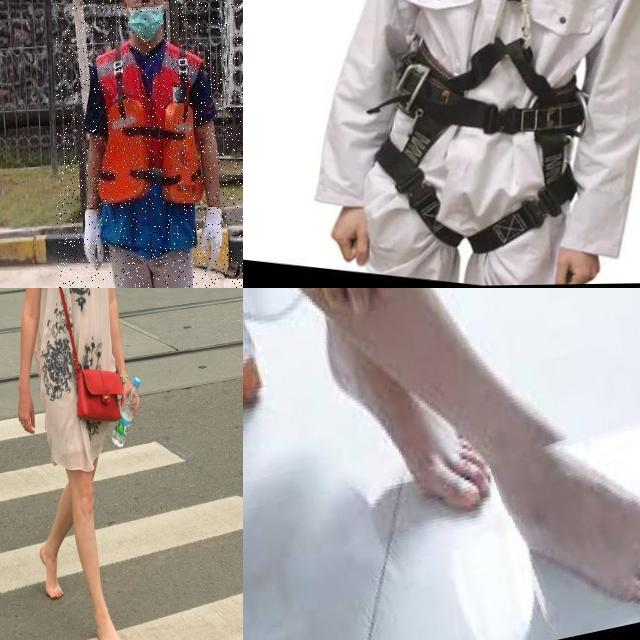Barefoots: (522, 441, 640, 617), (39, 542, 64, 599), (95, 618, 128, 640)
Harness: (367, 0, 585, 255)
person: (56, 0, 243, 288)
vest: (94, 40, 203, 256)
